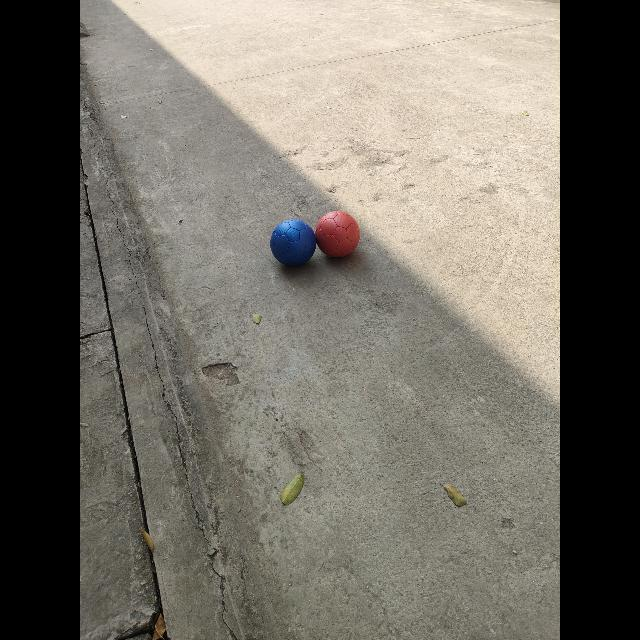B: (270, 220, 316, 266)
R: (315, 211, 360, 258)
